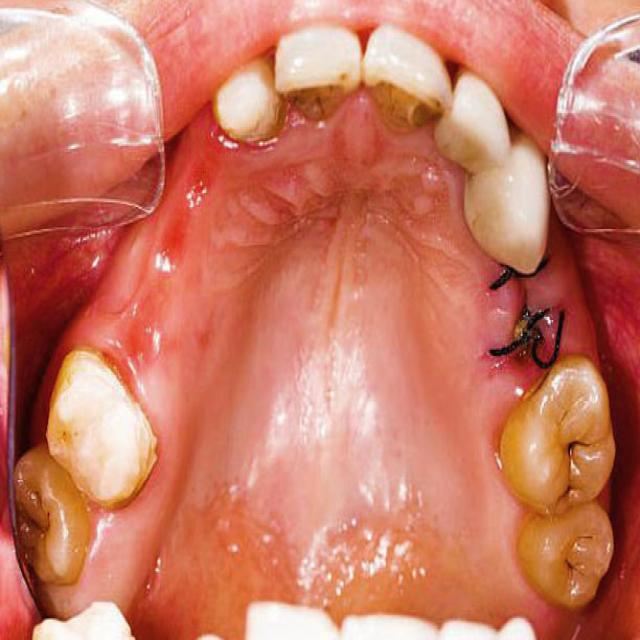caries: (559, 427, 595, 500)
